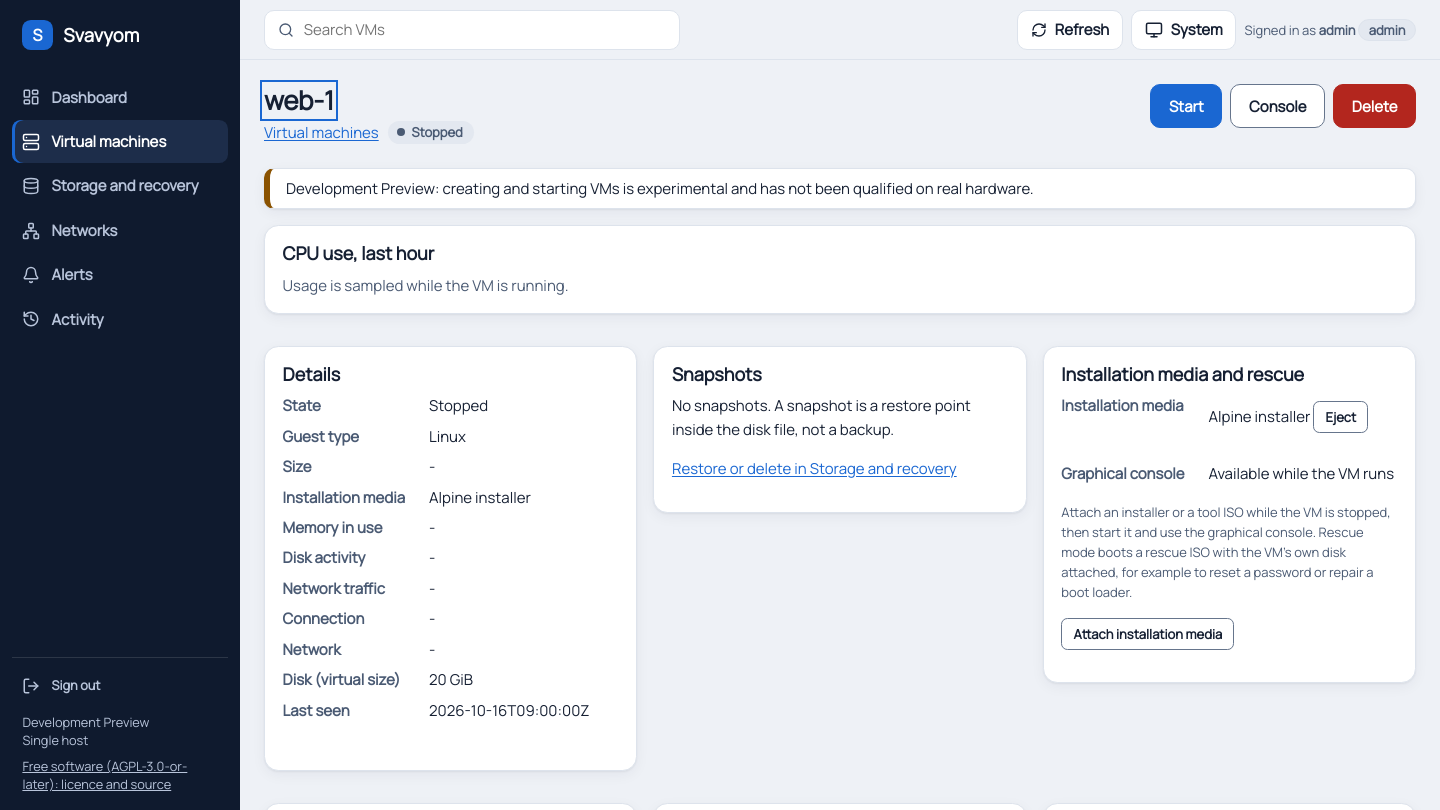
installation media, the graphical console and rescue on the VM page › two media on the VM page (DR-031) › gives fixed, specific wording when the server refuses an attach or an eject
The width and height of the screenshot is (1440, 810).
Click the button "Eject". click: (1341, 417)
box: [1313,401,1368,433]
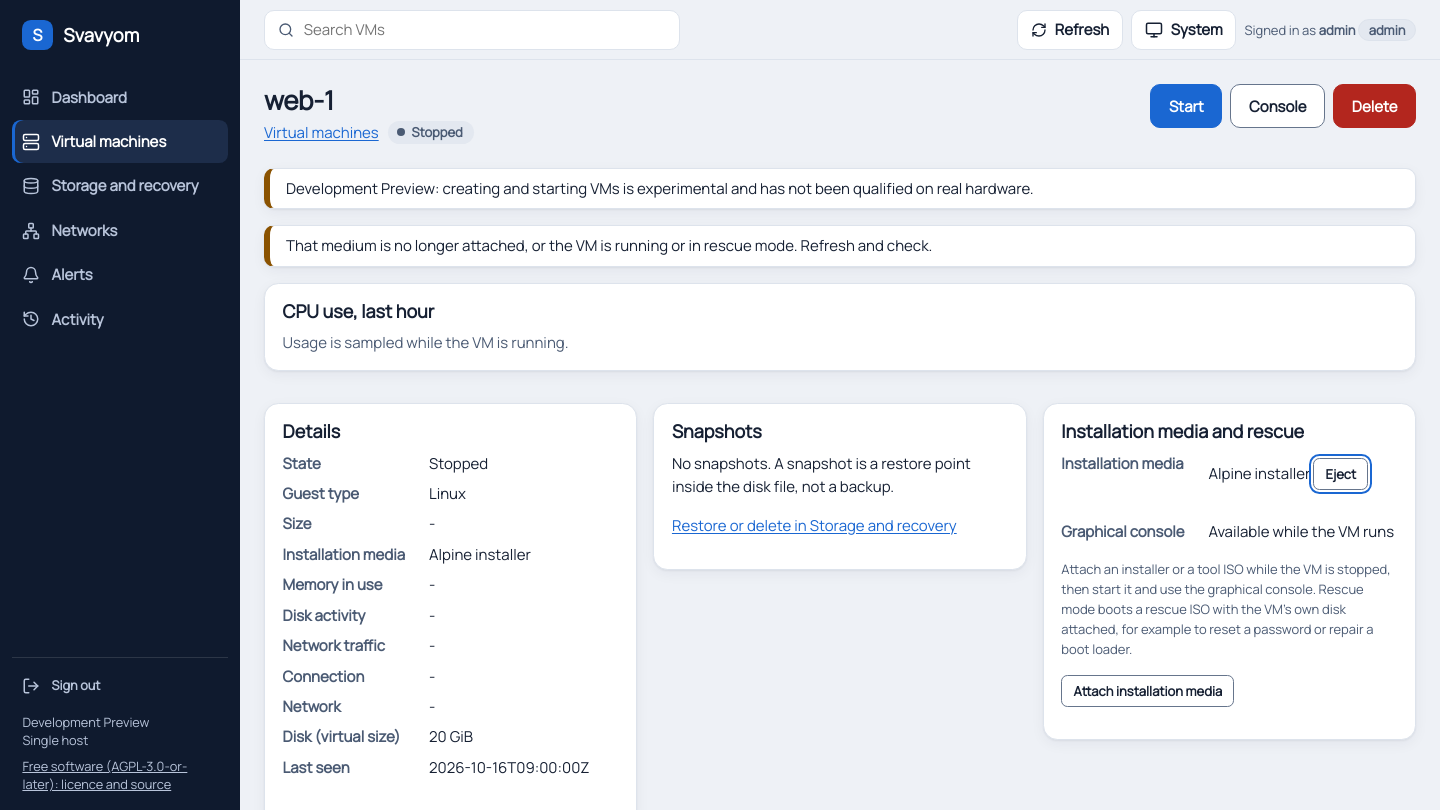
Check: the text "That medium is no longer attached, or the VM is running or in rescue mode" is shown, box [286,235,932,256]
Click the button with aria-label "Attach installation media to web-1". click: (1148, 692)
box: [1061,676,1234,708]
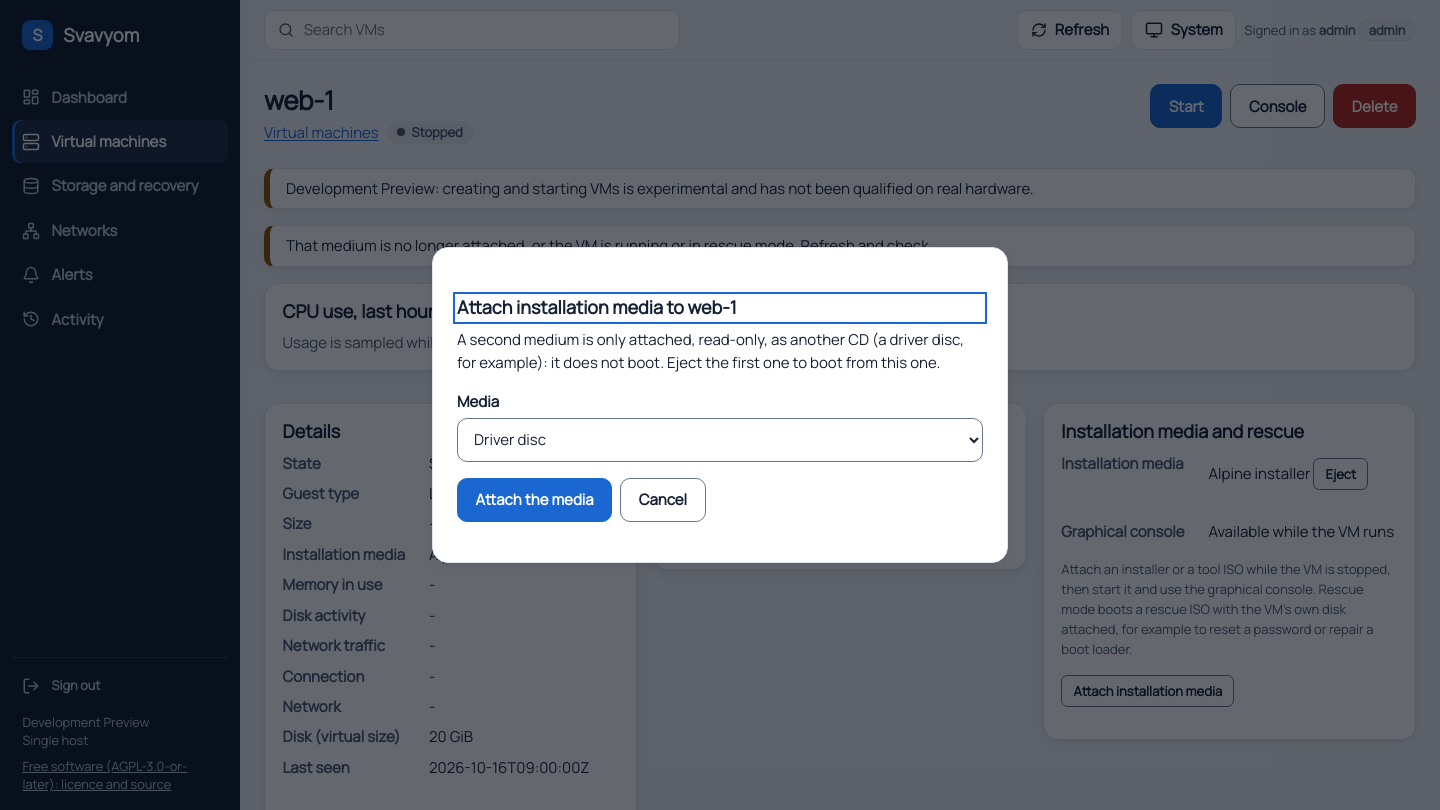
Check: the dropdown labelled "Media" is shown, box [457,418,983,462]
Click the button "Attach the media". click: (535, 500)
box: [457,478,612,522]
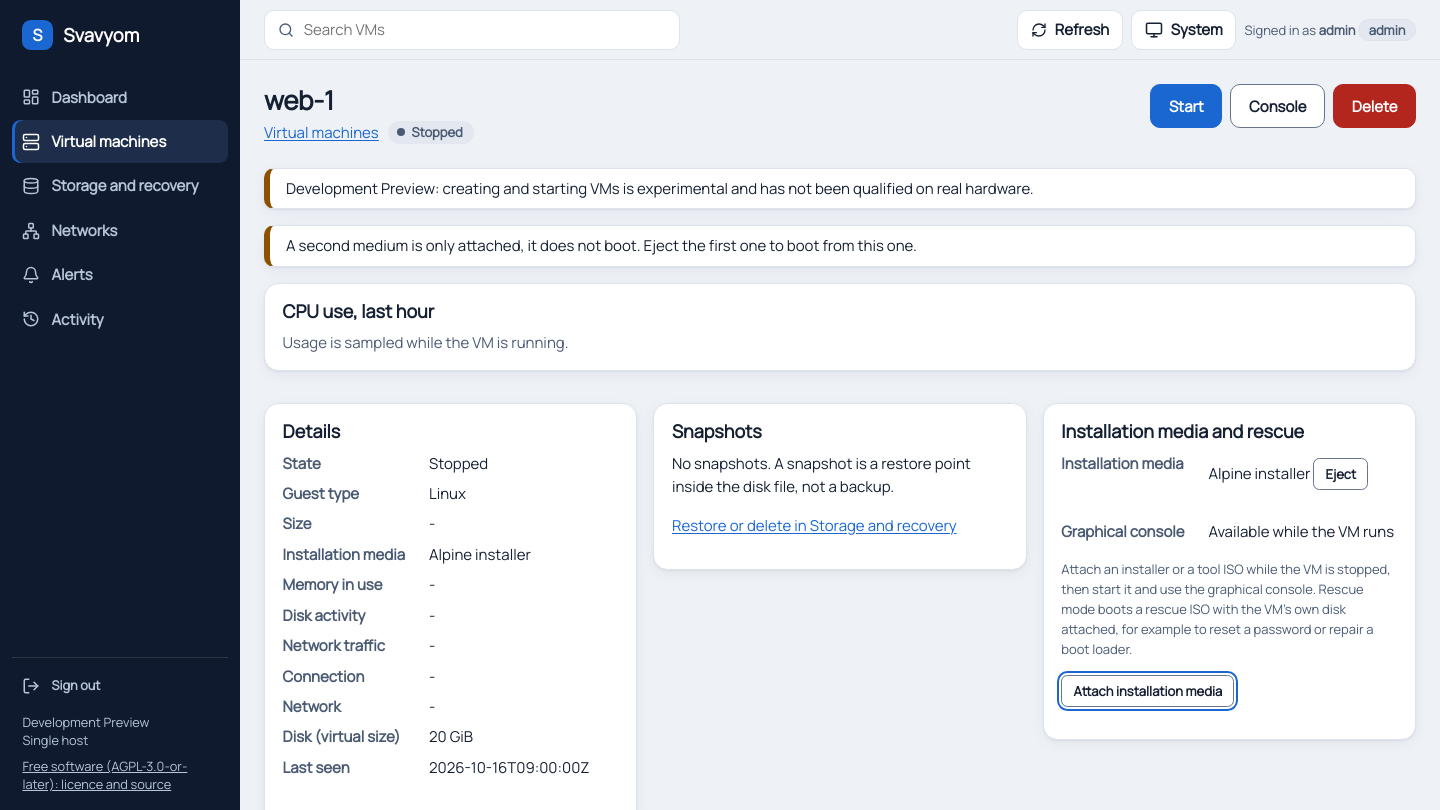
Check: the text "A second medium is only attached, it does not boot" is shown, box [286,235,917,256]
